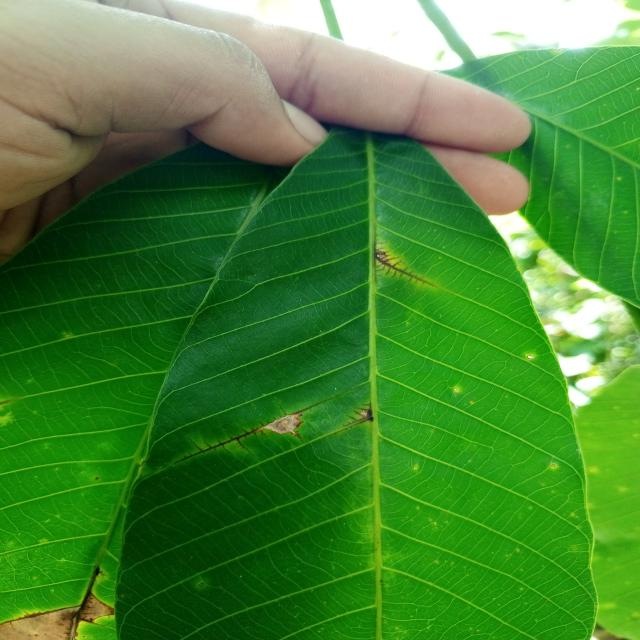Corynespora: (169, 422, 266, 464), (373, 235, 435, 288), (0, 604, 79, 626), (76, 566, 108, 619), (334, 401, 375, 434)
Leaf-Blight: (0, 606, 80, 640), (263, 412, 302, 434), (82, 595, 114, 620)
